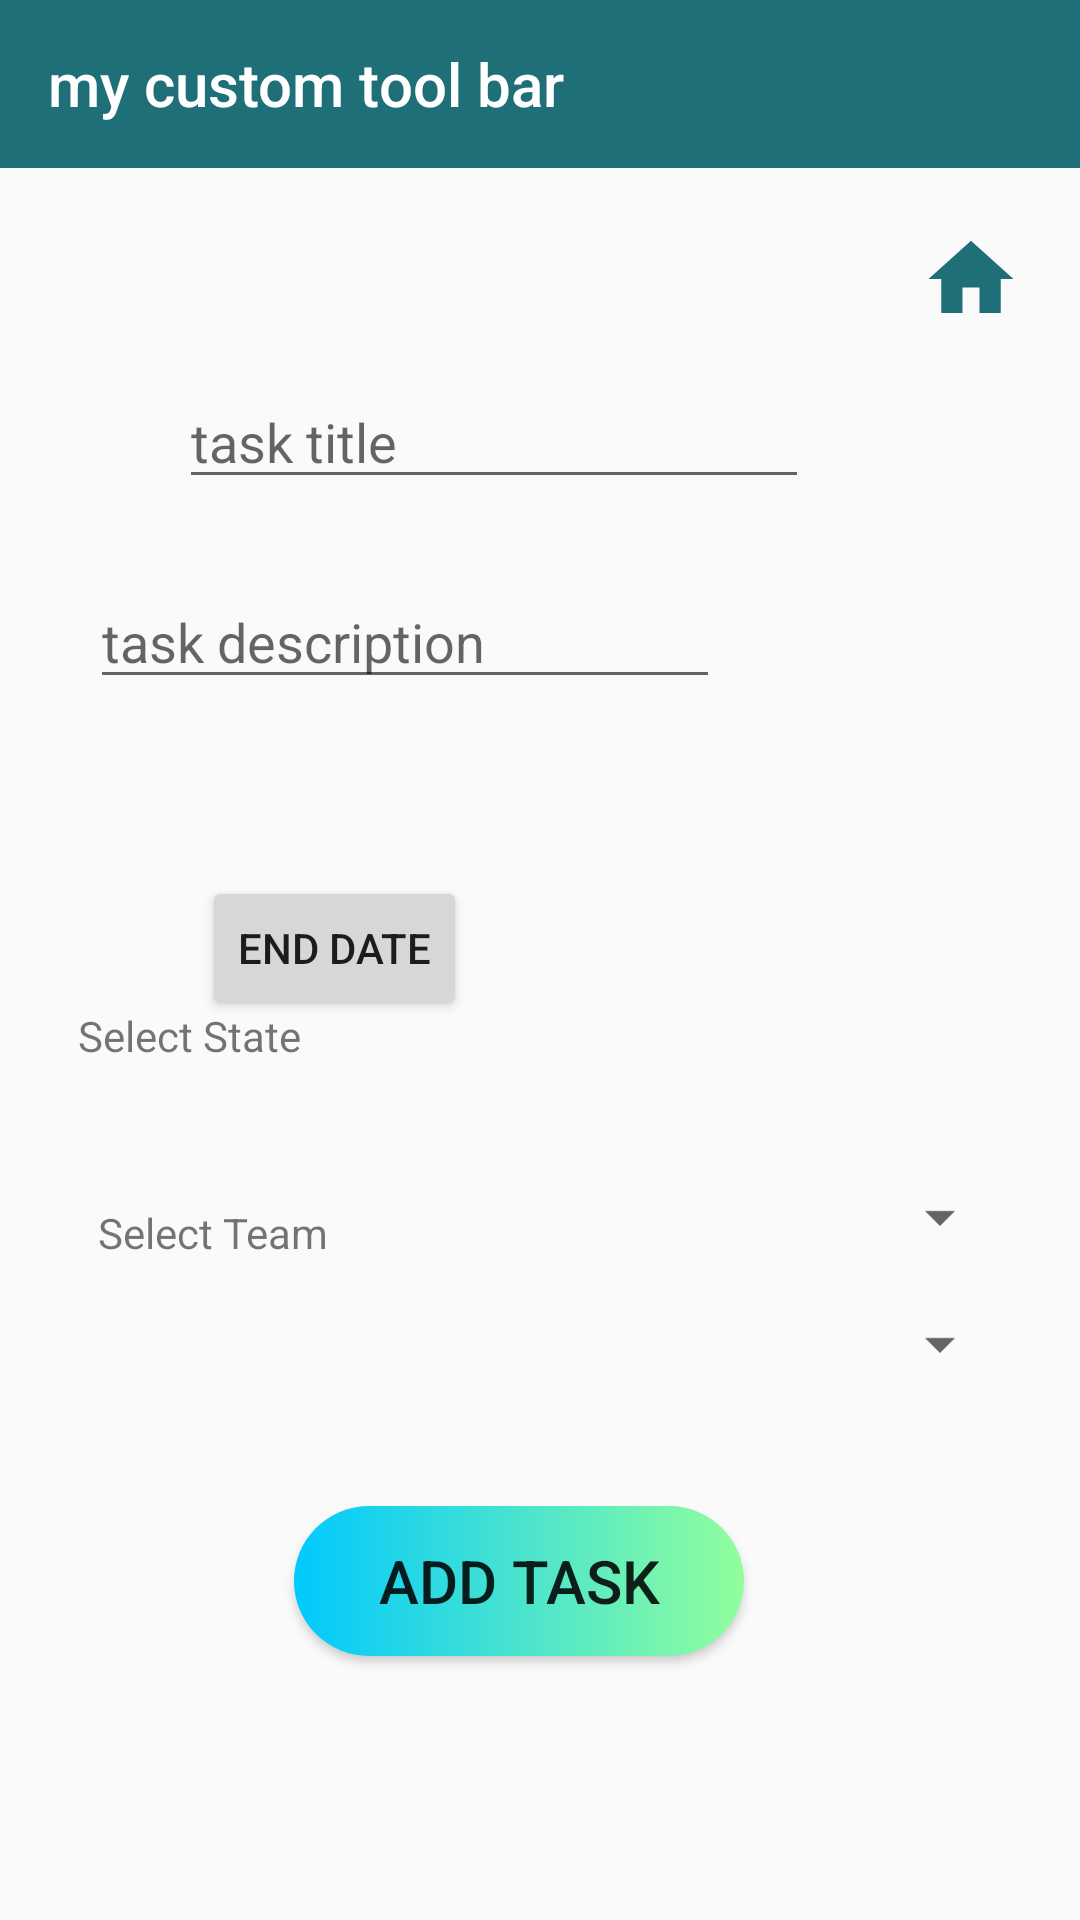

Icons on this 1080×1920 Android screen, each with the point to tap as (x=x, y=y):
home: (x=971, y=277)
